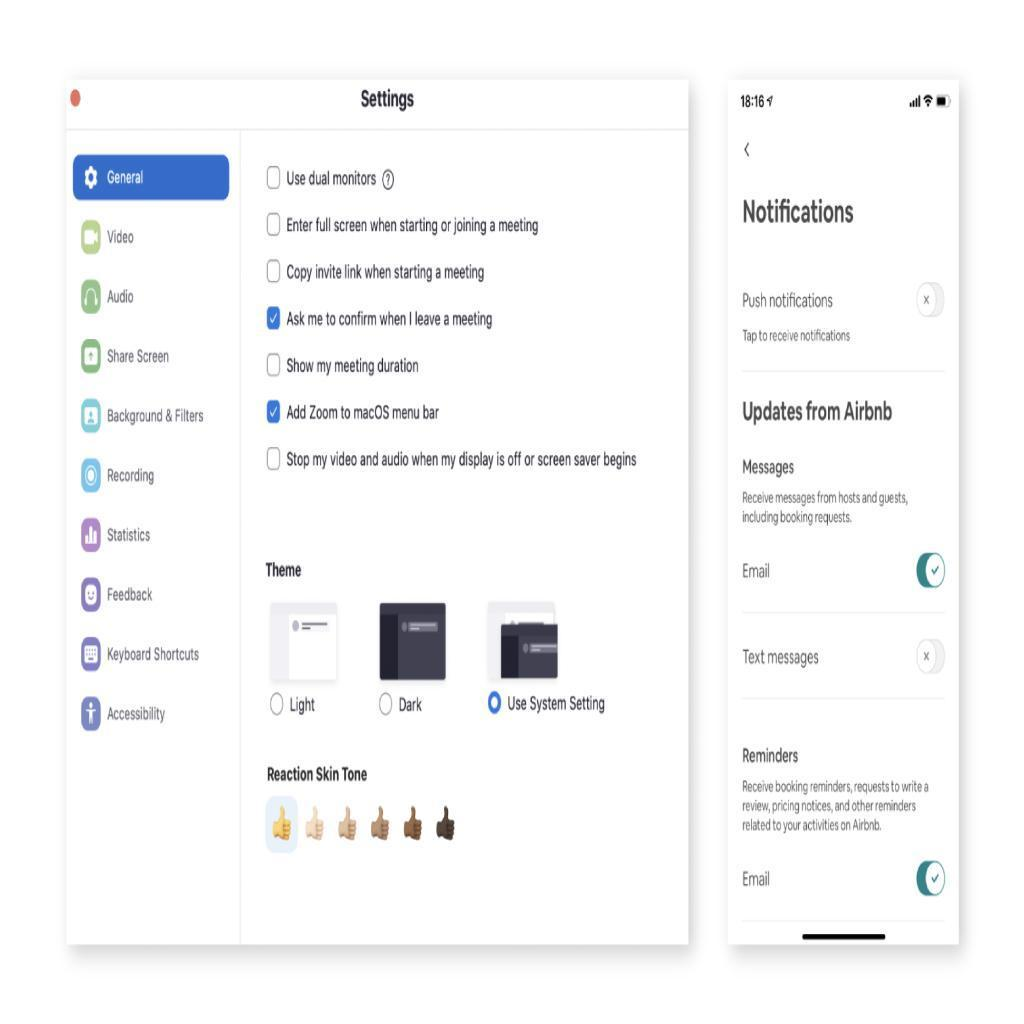checkbox: (266, 446, 284, 474), (268, 354, 284, 380), (267, 307, 283, 331), (268, 214, 282, 238), (267, 400, 282, 422), (268, 261, 282, 283), (269, 167, 281, 192)
radio: (268, 691, 287, 720), (485, 690, 504, 718), (378, 692, 395, 718)
switch: (912, 550, 953, 594), (912, 634, 951, 677), (914, 280, 951, 325), (915, 855, 946, 899)
